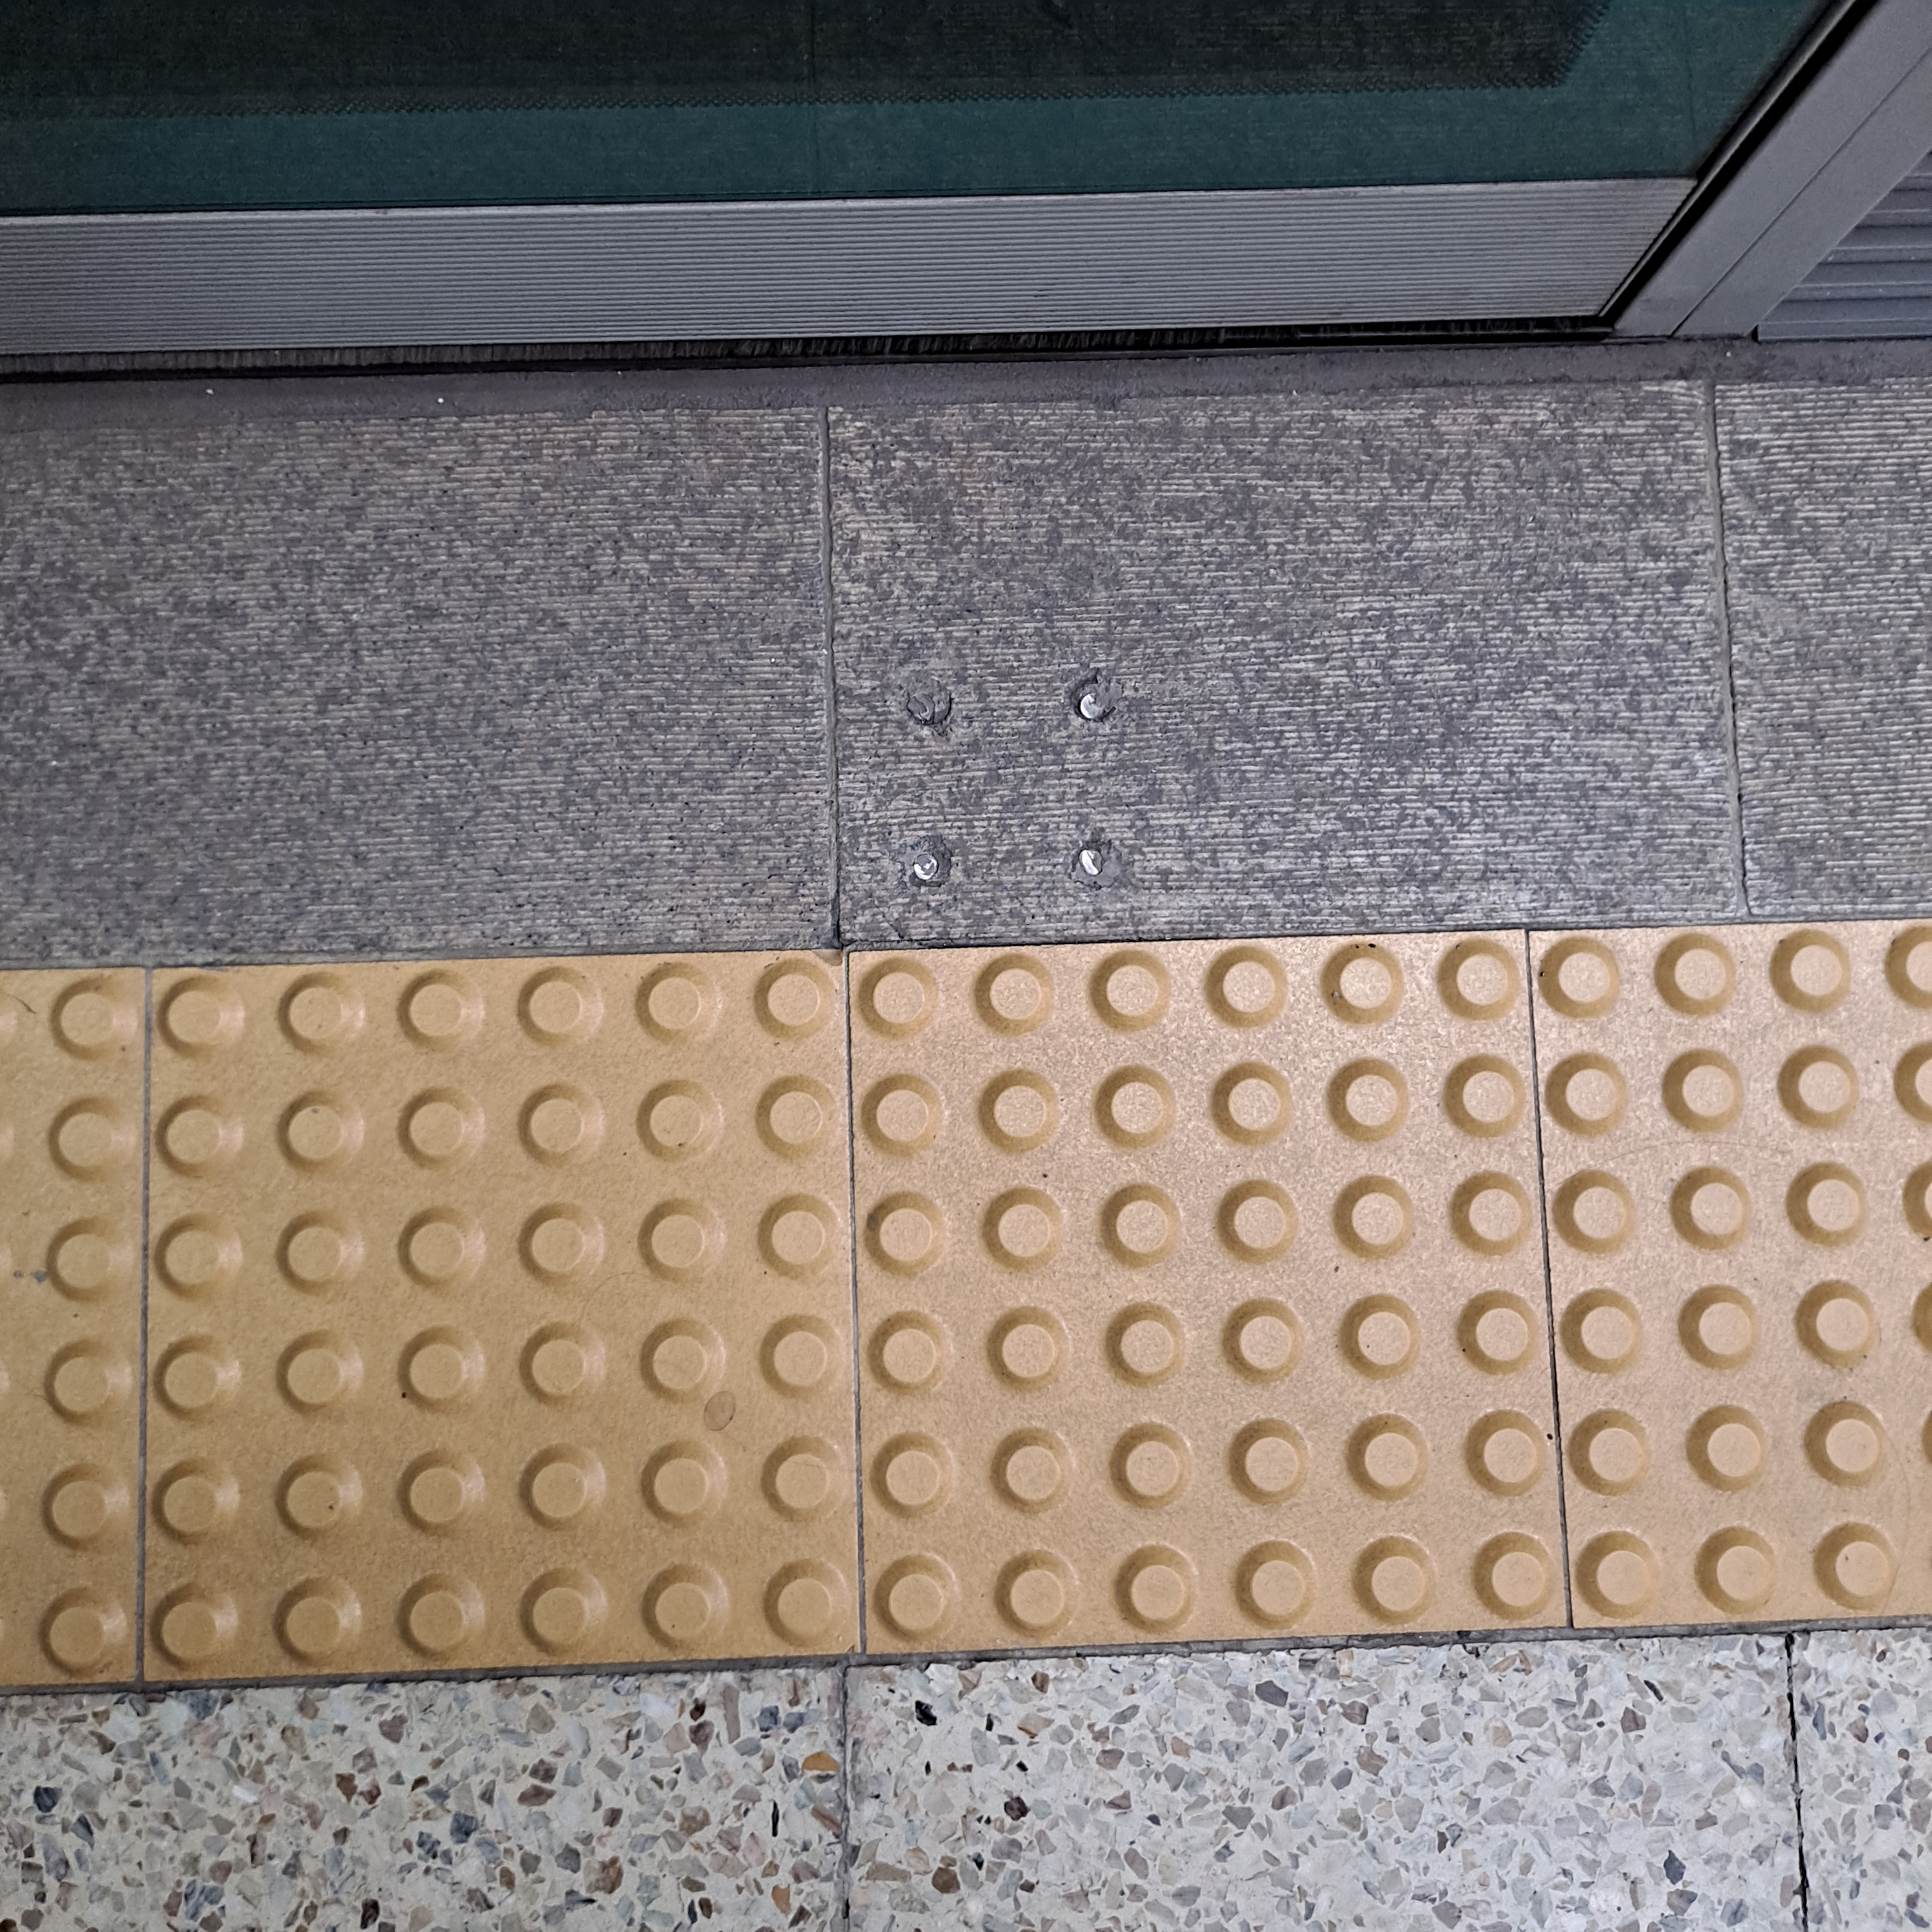warningBlock: (32, 957, 879, 1631), (862, 931, 1543, 1624), (1534, 932, 1932, 1631)
